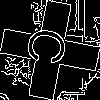C: (25, 25, 77, 70)
